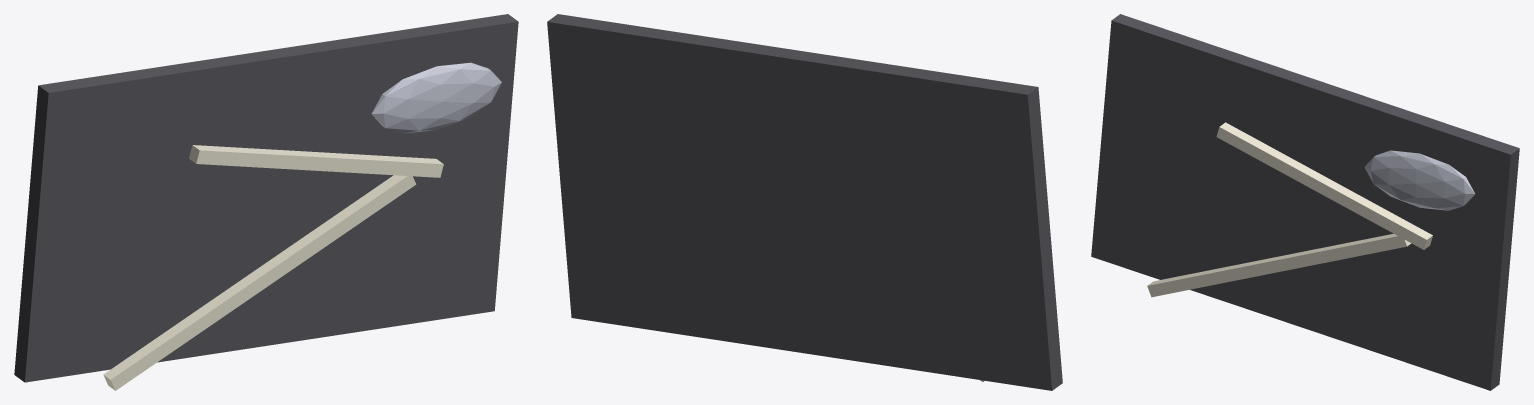
File: 03_weathering_wear_overlay_3.glb
The picture shows the model from 3 angles, left to right: view 1: azimuth 30°, elevation 25°; view 2: azimuth 150°, elevation 25°; view 3: azimuth 330°, elevation 25°; orthographic projection. The views are drawn at different scales.
Visible parts, largest first — view 1: wear_plate, scratch_a, rust_or_moss_spot, scratch_b; view 2: wear_plate; view 3: wear_plate, rust_or_moss_spot, scratch_b, scratch_a.
Part boxes in pixels (x1,y1,x2,y2): wear_plate: (14, 14, 518, 382); scratch_a: (103, 175, 416, 390); rust_or_moss_spot: (371, 62, 501, 133); scratch_b: (189, 145, 443, 177); wear_plate: (547, 14, 1062, 390); wear_plate: (1091, 14, 1519, 390); rust_or_moss_spot: (1364, 150, 1474, 210); scratch_b: (1216, 122, 1432, 249); scratch_a: (1147, 233, 1411, 297).
Bounding box in the file's own units: 1.36 × 0.8611 × 0.134.
